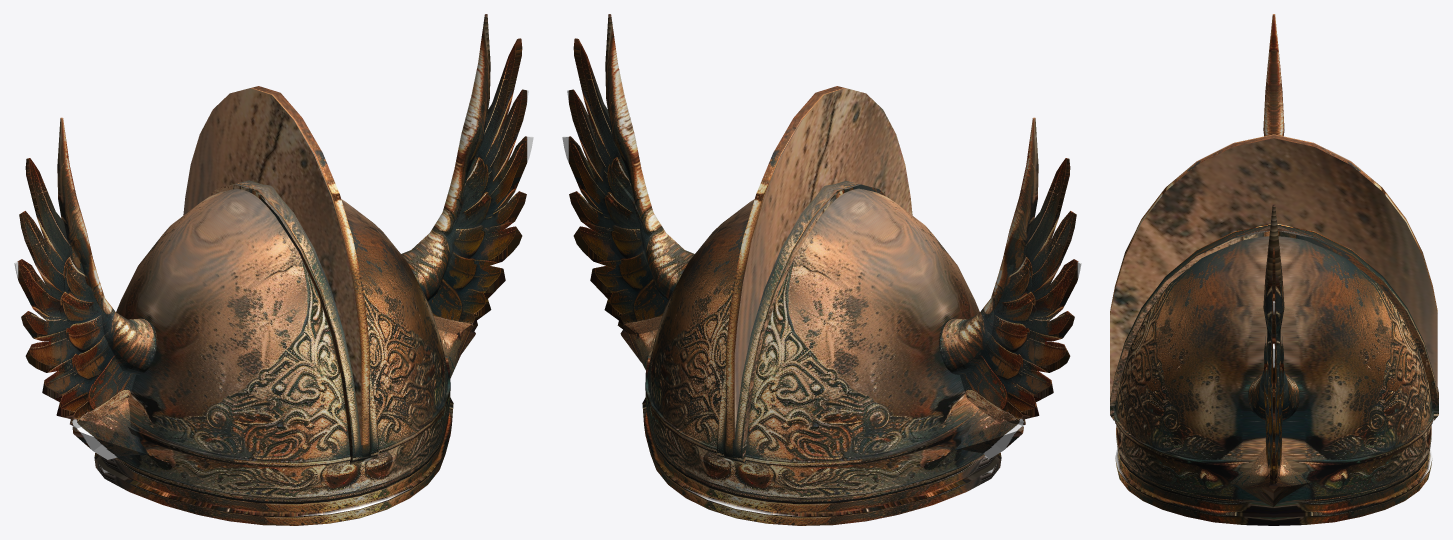
Rendered from Шлем всезнания (1).gltf.
The picture shows the model from 3 angles, left to right: view 1: azimuth 30°, elevation 25°; view 2: azimuth 150°, elevation 25°; view 3: azimuth 270°, elevation 25°; orthographic projection. The views are drawn at different scales.
Visible parts, largest first — view 1: Sphere.002; view 2: Sphere.002; view 3: Sphere.002.
Part boxes in pixels (<box>): Sphere.002: <box>14,14,533,525</box>; Sphere.002: <box>562,14,1081,525</box>; Sphere.002: <box>1110,14,1438,525</box>.
Bounding box in the file's own units: 1.85 × 1.32 × 1.11.
Materials: 1 (1 with a texture image).
